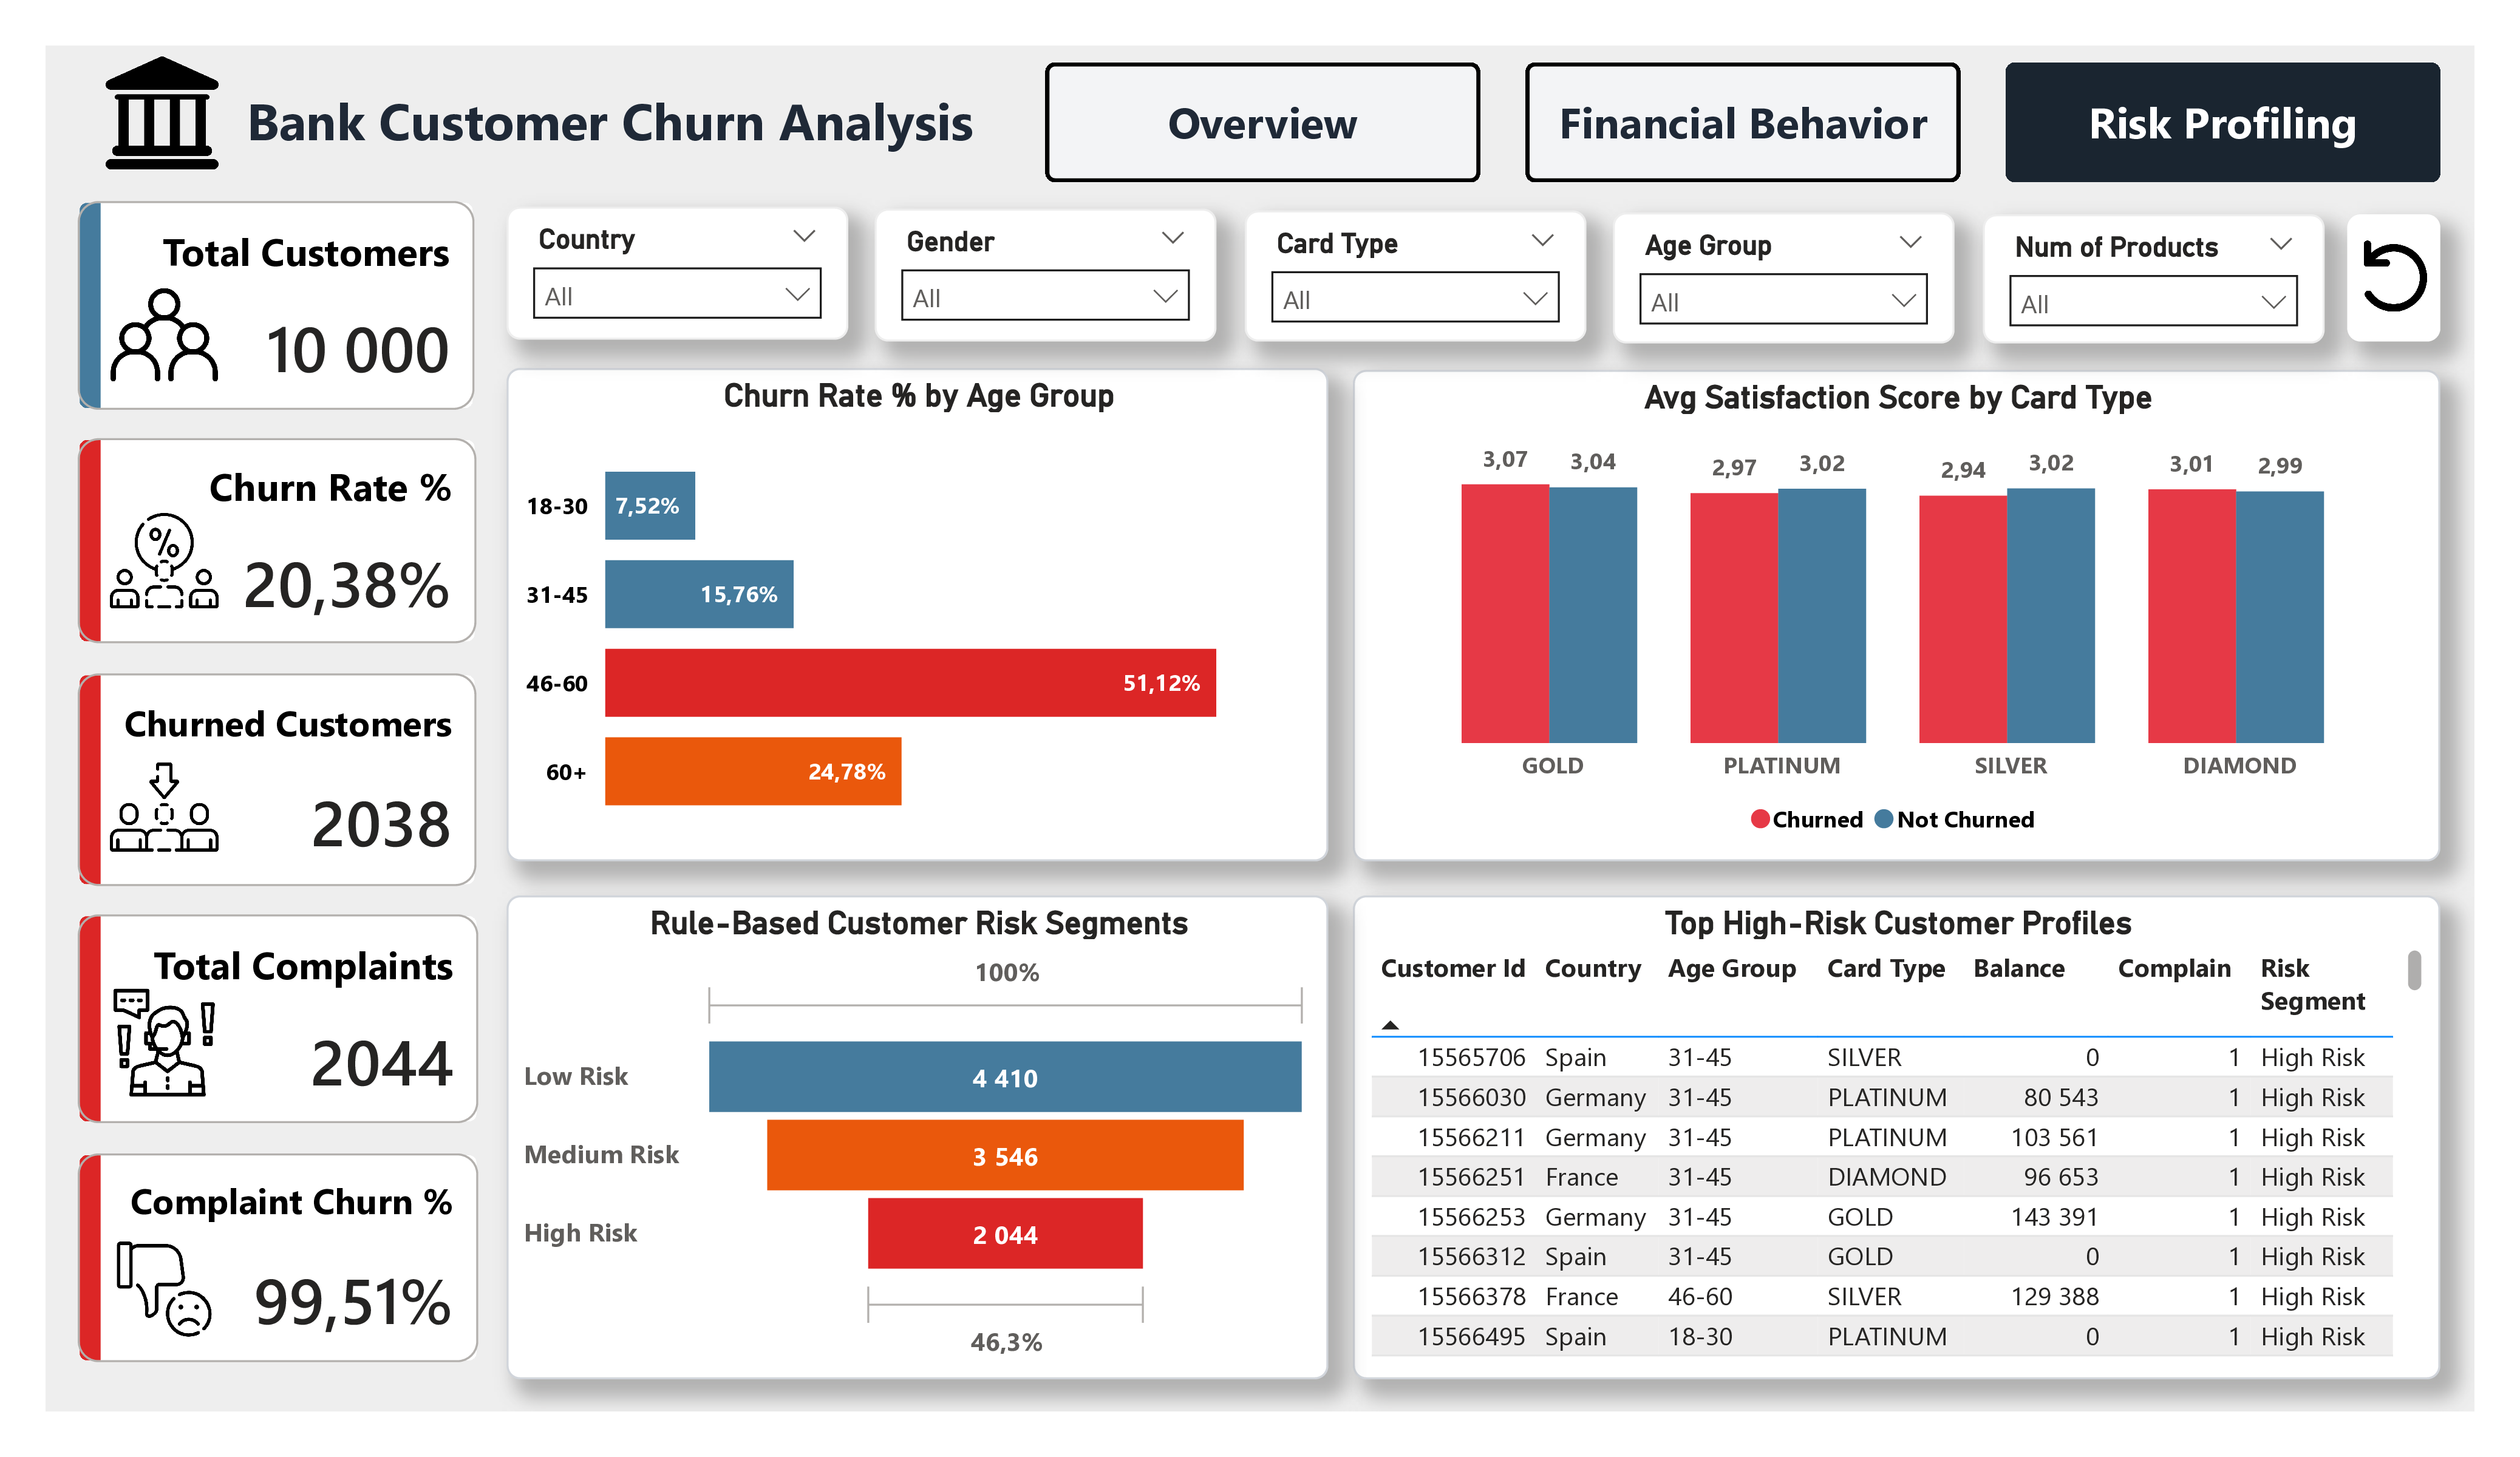

What the dashboard file says about the page in this screenshot:
{"tool":"powerbi","page":{"name":"Risk Profiling","canvas":[1280,720],"ordinal":2},"visuals":[{"type":"slicer","fields":{"Values":["dim_geography.country"]},"box":[264.7,85.4,229.9,69.6],"z":0},{"type":"slicer","fields":{"Values":["dim_customer.gender"]},"box":[520.6,85,230,70.1],"z":1000},{"type":"slicer","fields":{"Values":["dim_cardtype.card_type"]},"box":[776.6,85,230,70.1],"z":2000},{"type":"slicer","fields":{"Values":["dim_customer.age_group"]},"box":[1032.6,85.4,229.9,69.6],"z":3000},{"type":"clusteredColumnChart","title":"Avg Satisfaction Score by Card Type","fields":{"Series":["fact_churn.exited"],"Category":["dim_cardtype.card_type"],"Y":["Avg(fact_churn.satisfaction_score)"]},"box":[776.9,170.4,485.7,259.8],"z":4000},{"type":"clusteredBarChart","title":"Churn Rate % by Age Group","fields":{"Category":["dim_customer.age_group"],"Y":["Measures (2).Churn Rate %"]},"box":[263.7,169.8,487.3,260.5],"z":5000},{"type":"tableEx","title":"Top High-Risk Customer Profiles","fields":{"Values":["dim_customer.customer_id","dim_geography.country","dim_customer.age_group","dim_cardtype.card_type","Sum(fact_churn.balance)","Sum(fact_churn.complain)","fact_churn.Risk_Segment"]},"box":[653.7,448.3,609,255],"z":6000},{"type":"funnel","title":"Rule-Based Customer Risk Segments","fields":{"Category":["fact_churn.Risk_Segment"],"Y":["Measures (2).Total Customers"]},"box":[264.7,448.2,370.3,255.1],"z":7000},{"type":"pageNavigator","box":[522.9,9.6,735,62],"z":8000},{"type":"cardVisual","fields":{"Data":["Measures (2).Total Customers"]},"box":[4.4,64.8,242.9,142.6],"z":9000},{"type":"cardVisual","fields":{"Data":["Measures (2).Churn Rate %"]},"box":[5.6,207.4,242.9,142.6],"z":10000},{"type":"cardVisual","fields":{"Data":["Measures (2).Complaint Churn Rate %"]},"box":[4.4,350,244.1,145],"z":11000},{"type":"cardVisual","fields":{"Data":["Avg(fact_churn.satisfaction_score)"]},"box":[3.2,495,244.1,145],"z":12000},{"type":"image","box":[50.7,648.9,60.4,54.4],"z":13000},{"type":"image","box":[143.8,650.1,60.4,54.4],"z":14000},{"type":"textbox","box":[101.5,15.7,400,55.6],"z":15000},{"type":"image","box":[20.5,6,81,59.2],"z":16000}]}

Visuals, with their boxes on the page's 1280x720 design canvas (x1, y1, x2, y2). These are canvas units, not pixel positions in the 2520x1457 screenshot, which may show the page scaled, cropped or inside an application window:
slicer - dim_geography.country: Rect(265, 85, 495, 155)
slicer - dim_customer.gender: Rect(521, 85, 751, 155)
slicer - dim_cardtype.card_type: Rect(777, 85, 1007, 155)
slicer - dim_customer.age_group: Rect(1033, 85, 1262, 155)
"Avg Satisfaction Score by Card Type" clusteredColumnChart: Rect(777, 170, 1263, 430)
"Churn Rate % by Age Group" clusteredBarChart: Rect(264, 170, 751, 430)
"Top High-Risk Customer Profiles" tableEx: Rect(654, 448, 1263, 703)
"Rule-Based Customer Risk Segments" funnel: Rect(265, 448, 635, 703)
pageNavigator: Rect(523, 10, 1258, 72)
cardVisual - Measures (2).Total Customers: Rect(4, 65, 247, 207)
cardVisual - Measures (2).Churn Rate %: Rect(6, 207, 248, 350)
cardVisual - Measures (2).Complaint Churn Rate %: Rect(4, 350, 248, 495)
cardVisual - Avg(fact_churn.satisfaction_score): Rect(3, 495, 247, 640)
image: Rect(51, 649, 111, 703)
image: Rect(144, 650, 204, 704)
textbox: Rect(102, 16, 502, 71)
image: Rect(20, 6, 102, 65)
